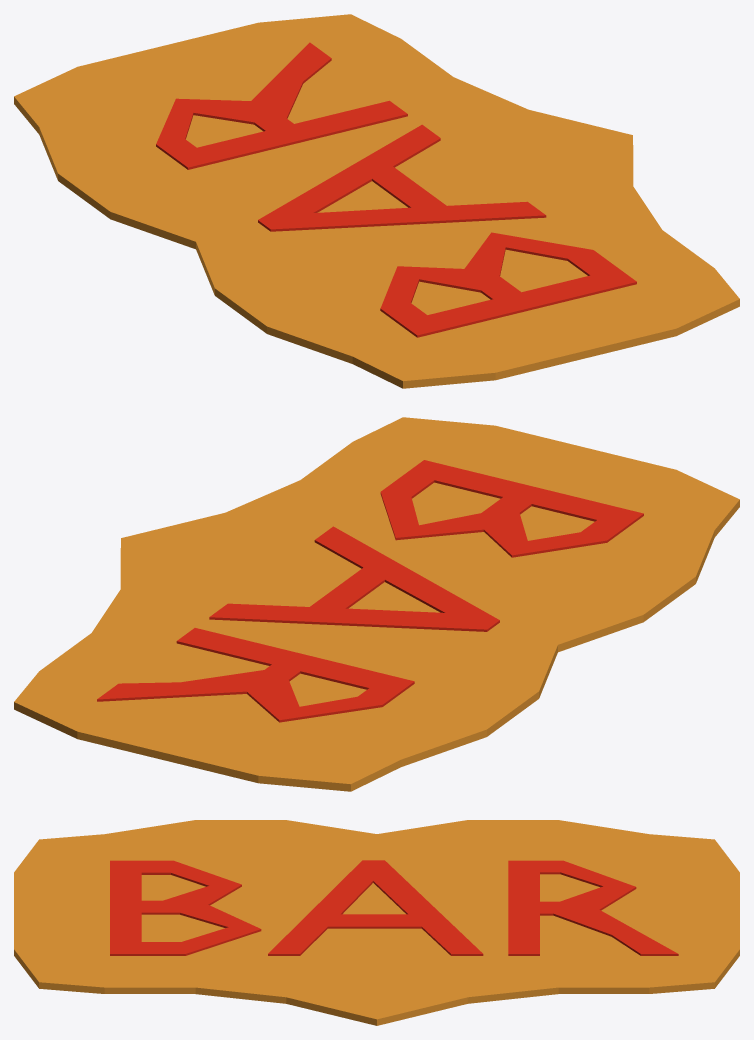
Rendered from bar sign.fbx.
The picture shows the model from 3 angles, top to bottom: view 1: azimuth 30°, elevation 25°; view 2: azimuth 150°, elevation 25°; view 3: azimuth 270°, elevation 25°; orthographic projection. The views are drawn at different scales.
Parts seen in each view (by area): view 1: Плоскость, Текст; view 2: Плоскость, Текст; view 3: Плоскость, Текст.
Boxes of the visible parts, bbox=[...] form: Плоскость: bbox=[14, 14, 739, 388]; Текст: bbox=[156, 42, 636, 337]; Плоскость: bbox=[14, 417, 739, 791]; Текст: bbox=[97, 460, 643, 722]; Плоскость: bbox=[14, 820, 739, 1025]; Текст: bbox=[110, 860, 678, 955].
Size of the model in its own units: 260 by 5.24 by 400.
